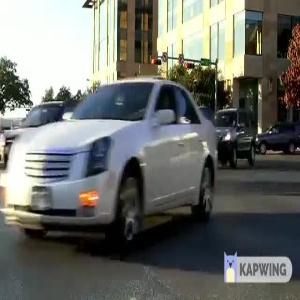car: (5, 76, 235, 237)
suv: (255, 113, 300, 161)
